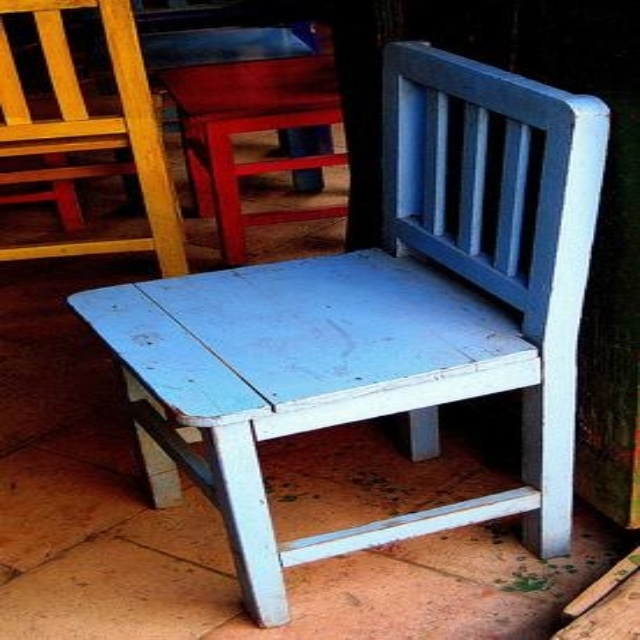obstacle: (70, 42, 605, 626)
